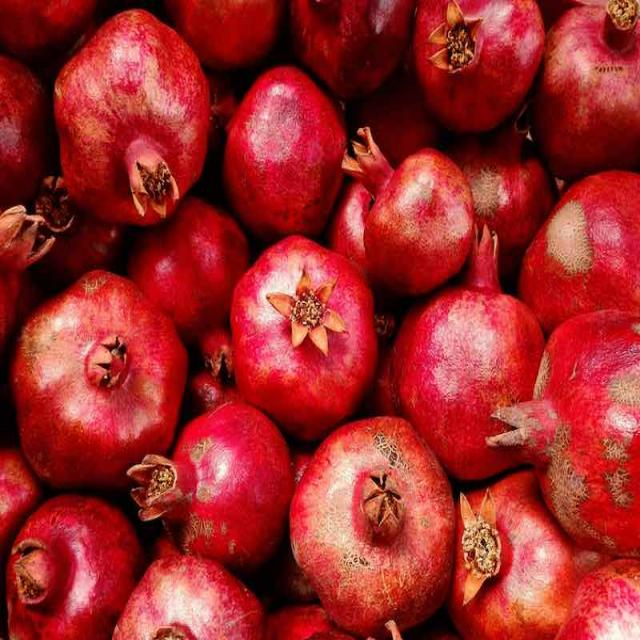pomegranate: (378, 220, 546, 479), (9, 264, 185, 488), (494, 308, 640, 568), (285, 415, 459, 630), (50, 14, 194, 220), (338, 109, 484, 306), (126, 398, 302, 559), (230, 239, 376, 428), (130, 209, 258, 388), (451, 478, 592, 640), (213, 74, 347, 236), (521, 161, 640, 320), (407, 1, 542, 136), (535, 1, 640, 174), (9, 494, 132, 640), (448, 109, 554, 248), (281, 1, 411, 101), (111, 559, 269, 640)
